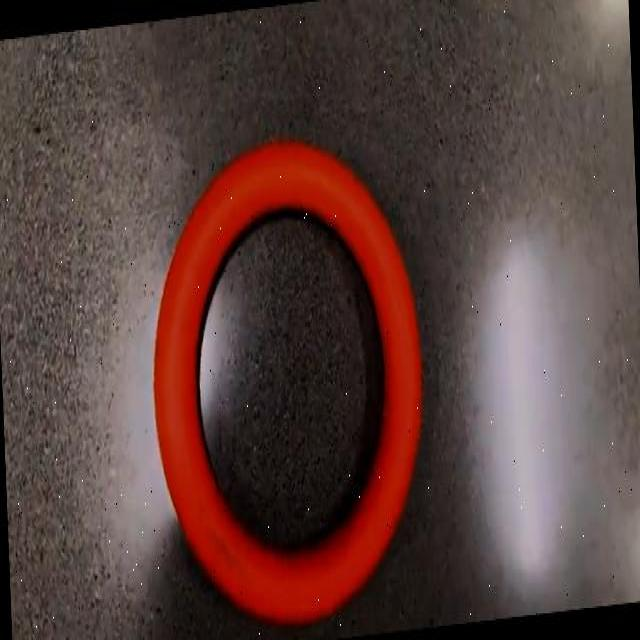note: (153, 140, 421, 623)
